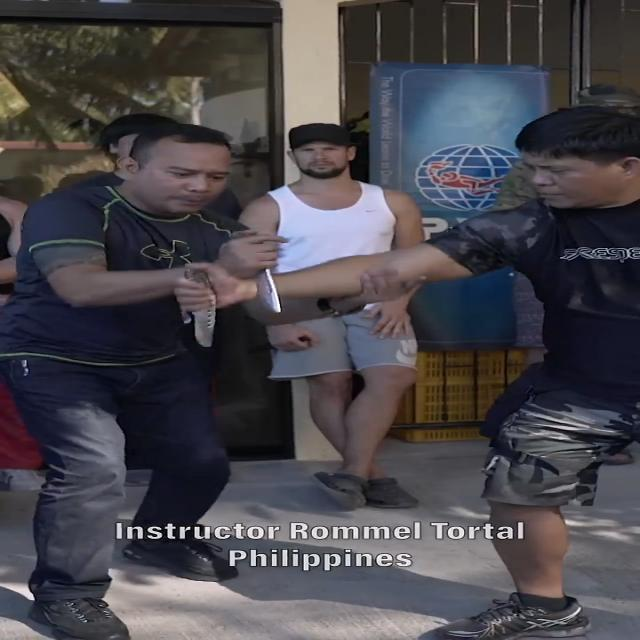Knife: (186, 268, 232, 352), (249, 232, 289, 318)
